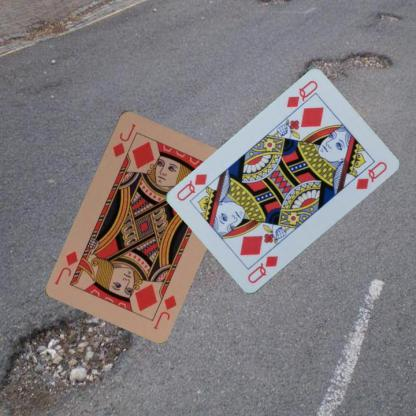Jd: (150, 292, 178, 330), (110, 120, 137, 158)
Qd: (284, 78, 319, 118), (244, 253, 280, 285)
